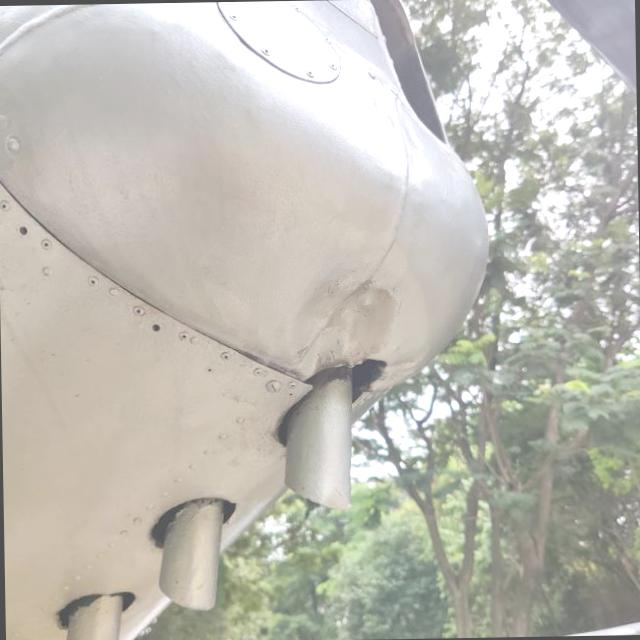dent: (266, 270, 409, 384)
